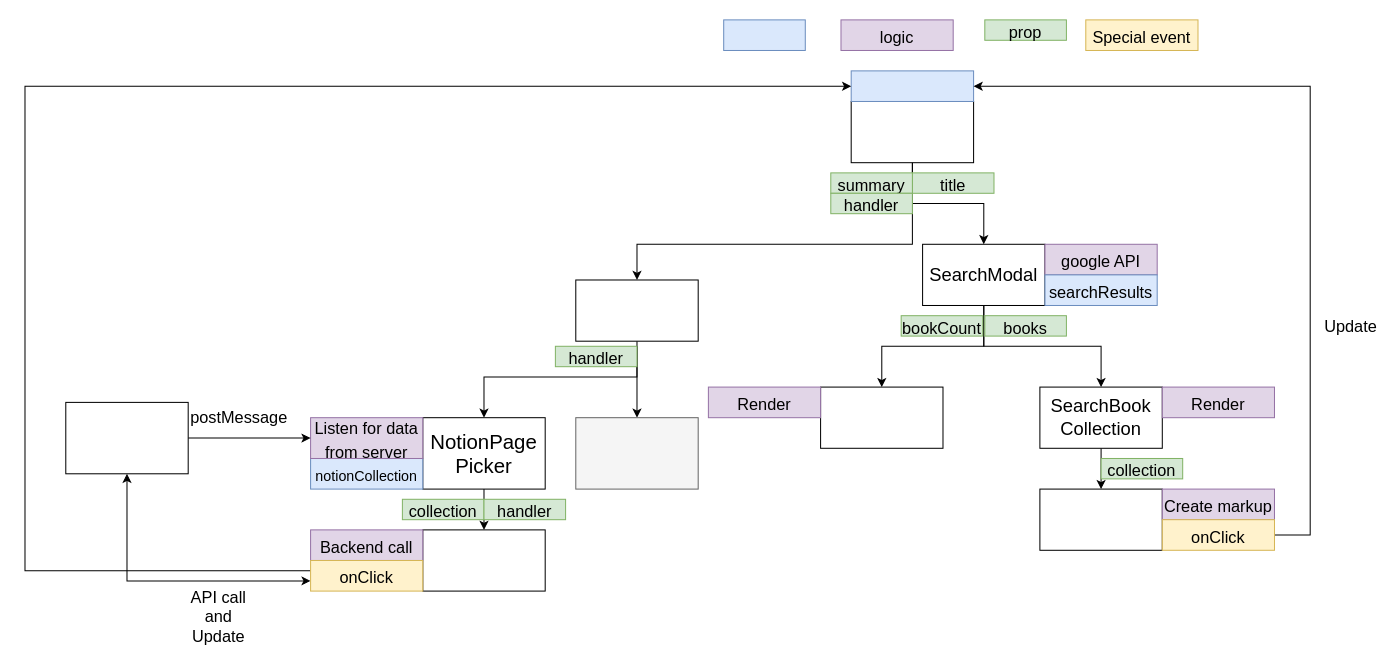
The diagram is 1399 pixels wide and 663 high, and some of its shapes have lost their labels. Each missing label, with the box of its shape:
Backend Server: (65, 401, 188, 474)
BookCard: (1039, 488, 1162, 550)
BookForm: (850, 100, 974, 163)
formData: (850, 70, 974, 101)
NotionCard: (422, 529, 545, 591)
Search Pagination: (820, 386, 943, 448)
state: (723, 19, 805, 50)
TextEditor: (575, 279, 698, 341)
TinyMCE: (575, 417, 698, 489)
